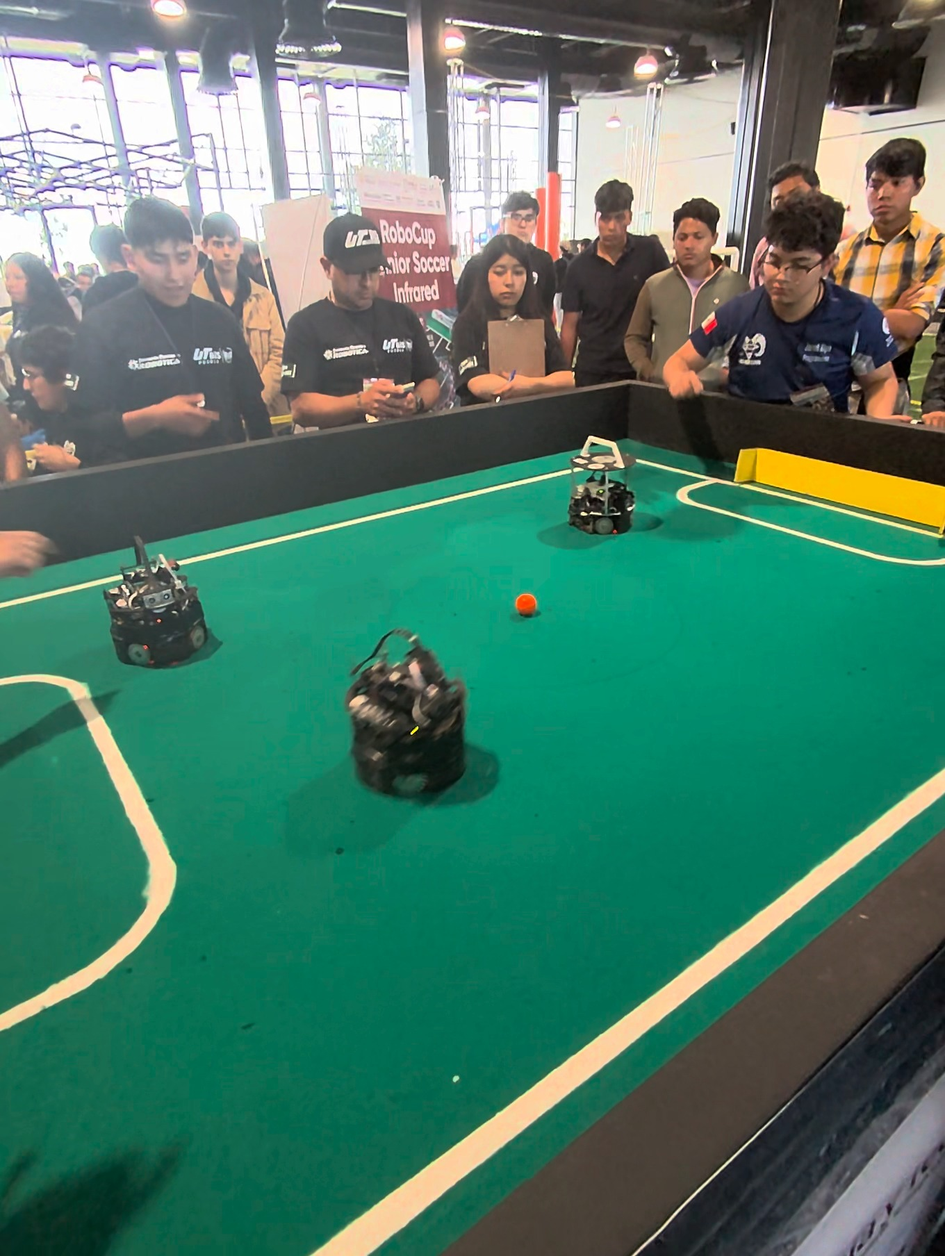Robot: (344, 623, 474, 809), (105, 539, 218, 677), (563, 436, 637, 546)
pelota: (515, 596, 537, 618)
